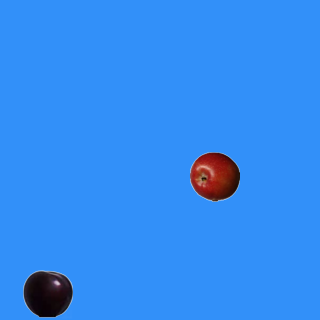Apple Braeburn: (189, 151, 239, 201)
Cherry Wax Black: (22, 268, 72, 318)
